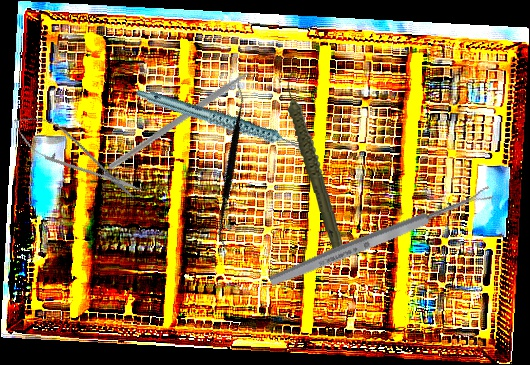Chopper: (107, 22, 276, 215)
Handpiece: (134, 55, 308, 189), (284, 69, 347, 260)
Micro Scissor: (5, 104, 147, 210)
Spatula Surgical: (165, 84, 299, 250)
Surgical Spoon: (267, 185, 495, 289)
